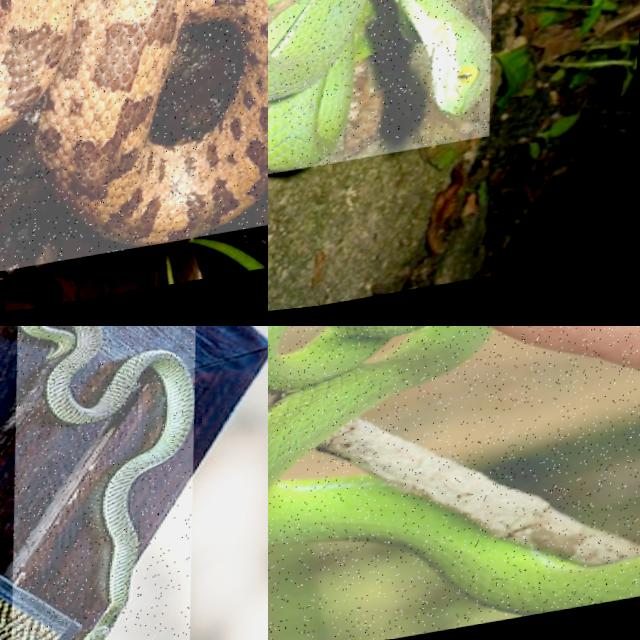Chrysopelea ornata: (19, 326, 193, 639)
Ovophis monticola: (0, 0, 267, 244)
Trimeresurus: (268, 326, 639, 615), (268, 0, 365, 169)
